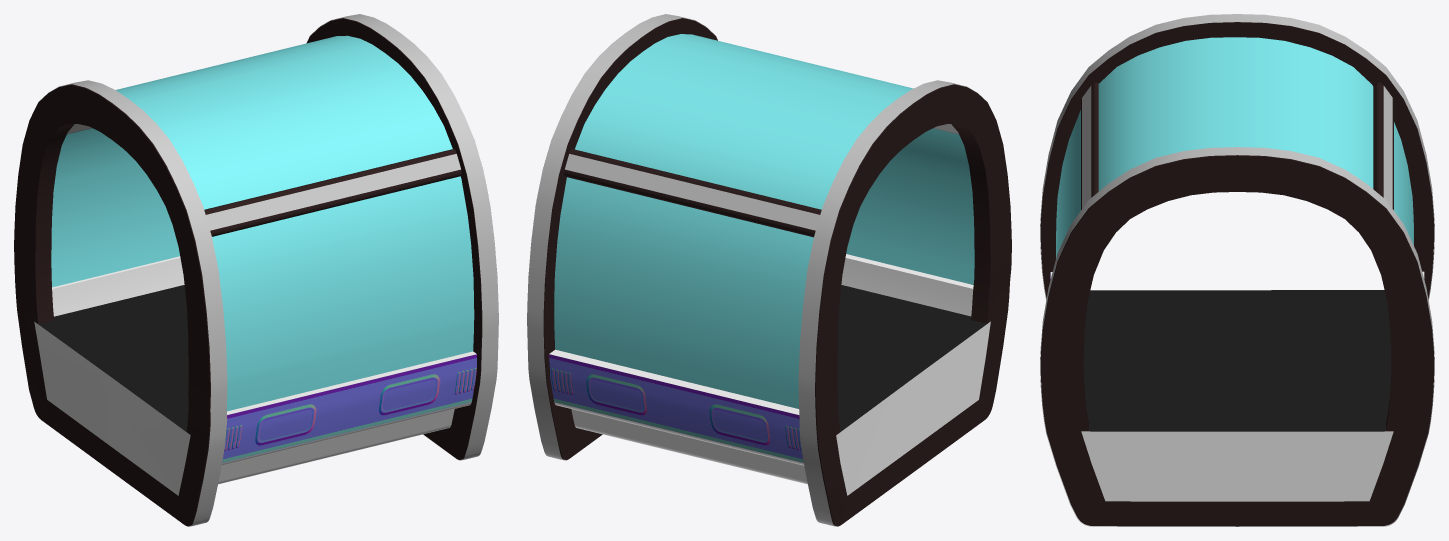
File: S_assete_corridor_1.fbx
3 views of the same model, side by side, from view 1: azimuth 30°, elevation 25°; view 2: azimuth 150°, elevation 25°; view 3: azimuth 270°, elevation 25° (orthographic).
Parts seen in each view (by area): view 1: Box507; view 2: Box507; view 3: Box507.
Boxes of the visible parts, bbox=[...] form: Box507: bbox=[14, 14, 498, 526]; Box507: bbox=[527, 14, 1011, 526]; Box507: bbox=[1040, 14, 1434, 526].
Size of the model in its own units: 432 by 527 by 508.
